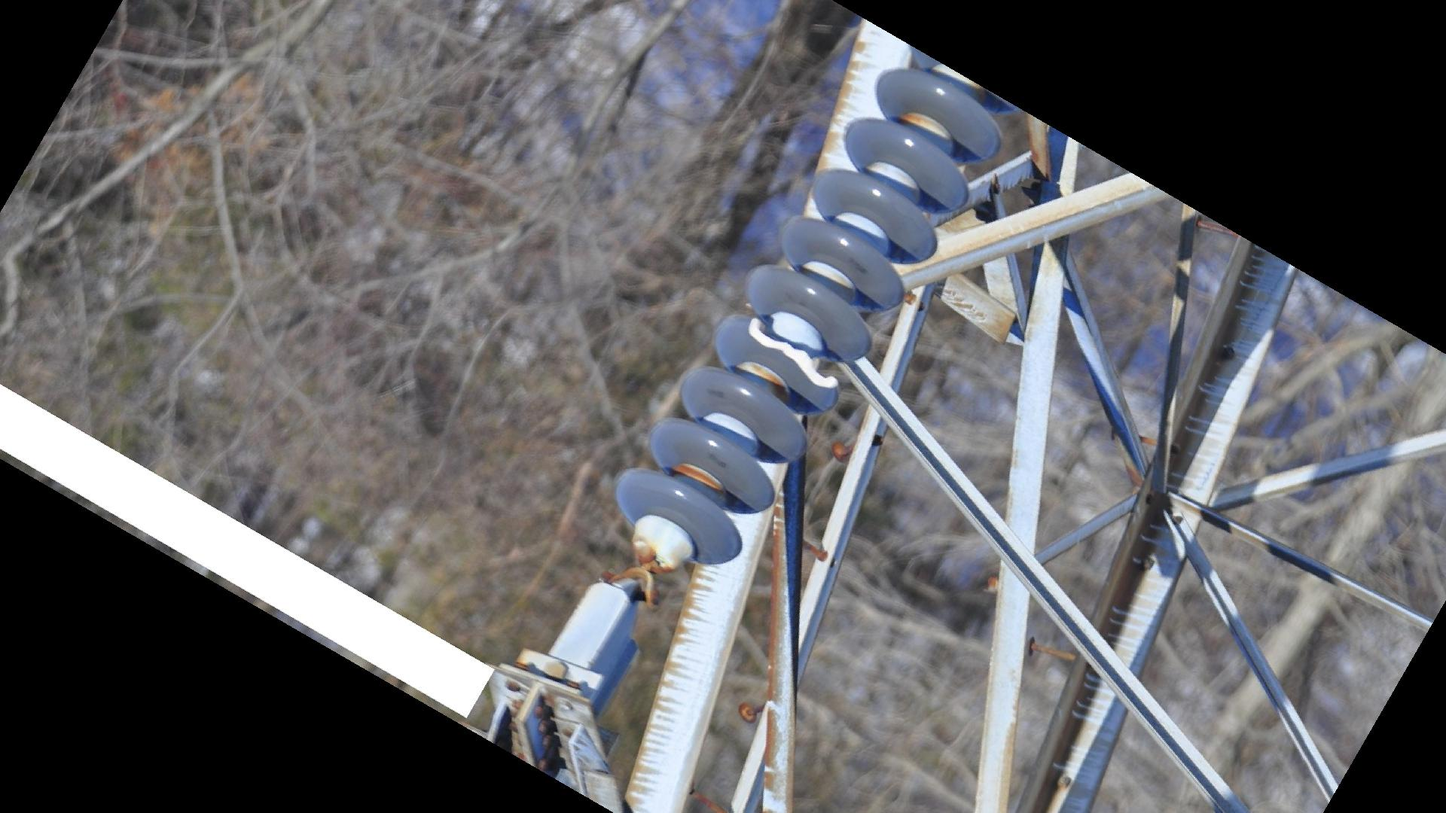insulator: (608, 61, 1013, 571)
insulator_breakage: (743, 311, 844, 398)
